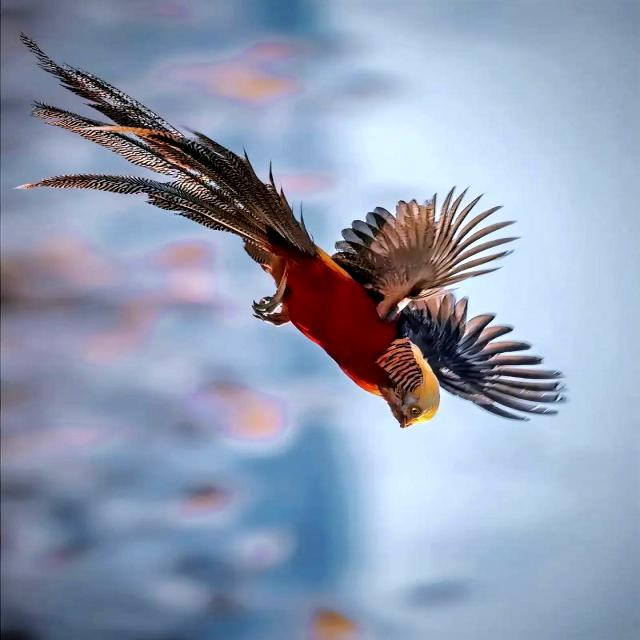Chrysolophus pictus feather: (13, 33, 319, 269)
